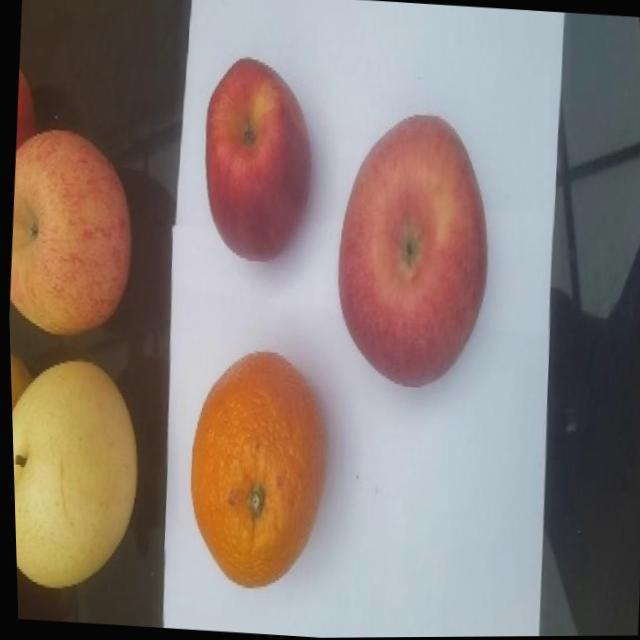Apple: (323, 107, 499, 393), (3, 124, 140, 340), (193, 54, 319, 265)
Orange: (177, 345, 332, 593)
